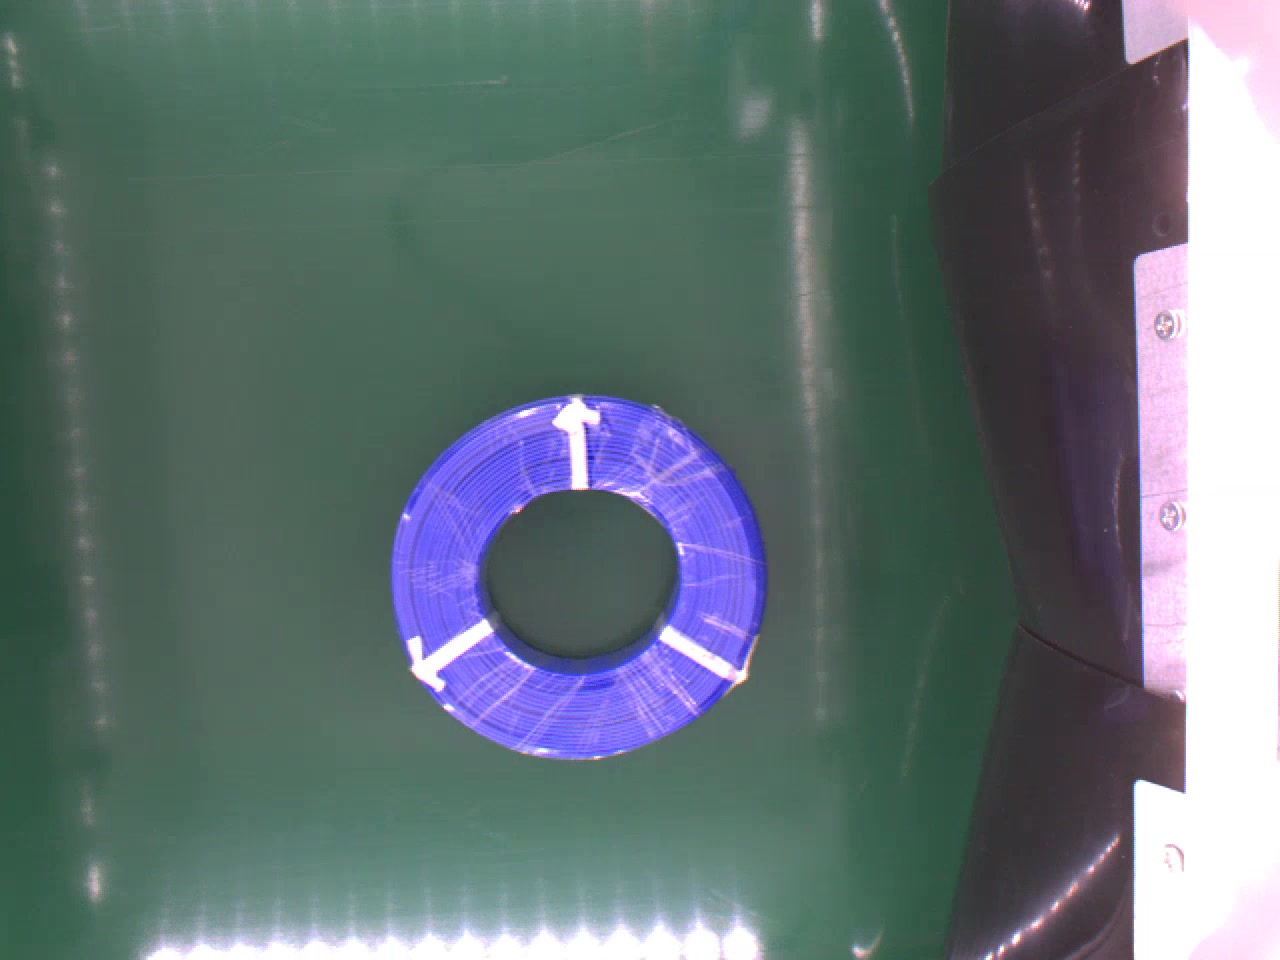blue: (382, 382, 781, 756)
